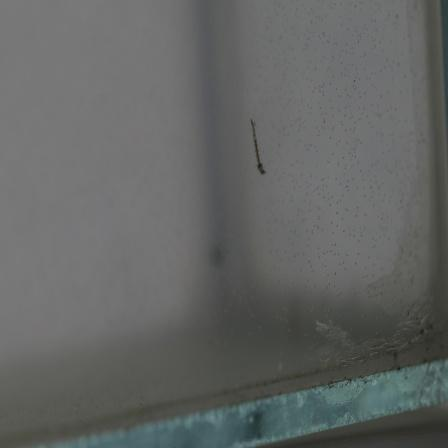Jentik-Nyamuk: (246, 113, 269, 181)
